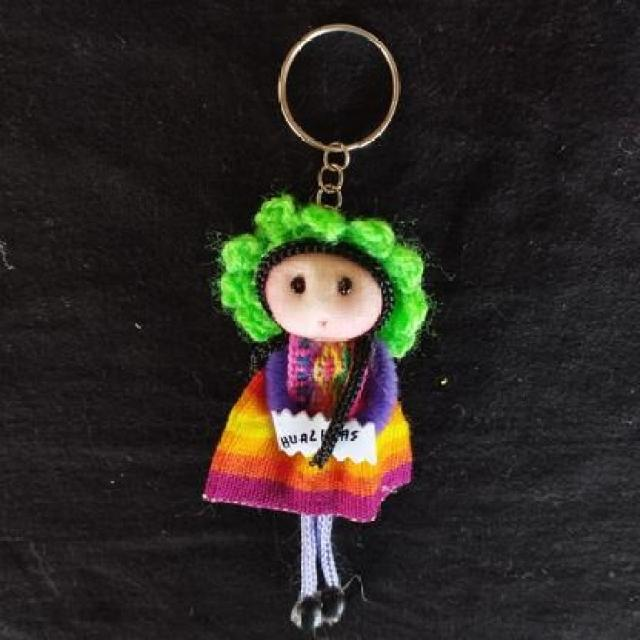Llavero: (200, 192, 432, 634)
